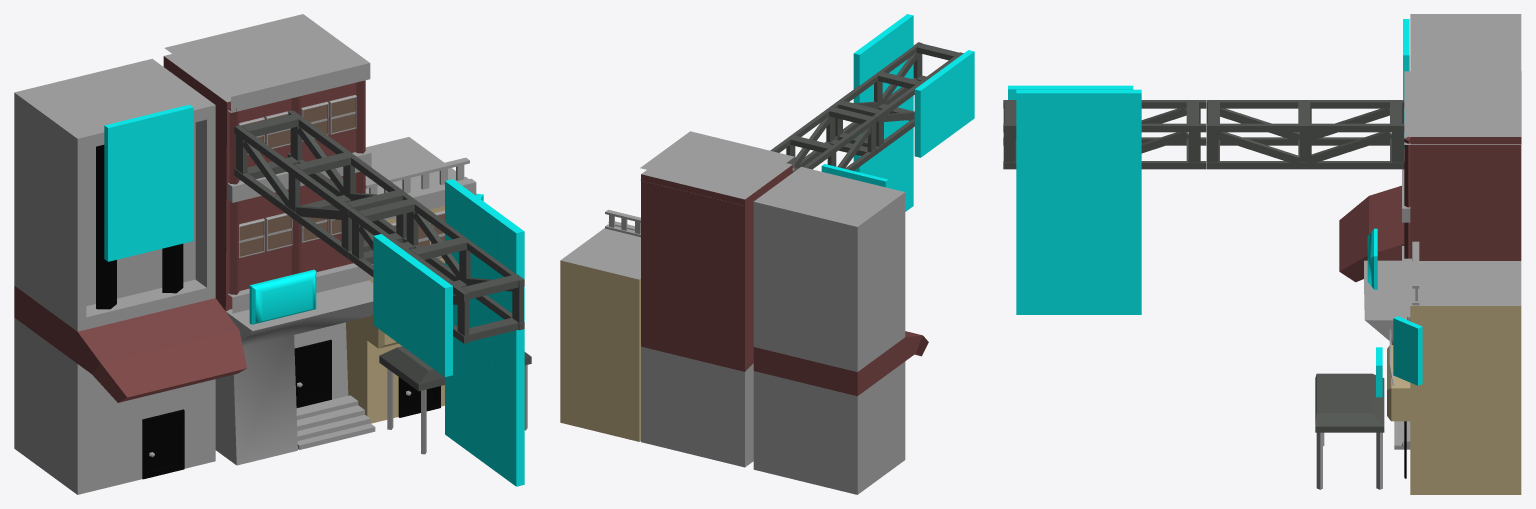
File: SciFiBuildings.fbx
3 views of the same model, side by side, from view 1: azimuth 30°, elevation 25°; view 2: azimuth 150°, elevation 25°; view 3: azimuth 270°, elevation 25° (orthographic). The views are drawn at different scales.
Parts seen in each view (by area): view 1: pCube185, pCube186, pCube270, pCube174, pCube198, pCube200, pCube172, pCube175, pCube187, pCube188, pSphere29, pSphere27 (+15 smaller); view 2: pCube185, pCube186, pCube175, pCube270, pCube174, pCube200, pCube172, pCube198, pCube184; view 3: pCube174, pCube175, pCube186, pCube270, pCube185, pCube200, pCube191, pCube190, pCylinder54, pCube172, pCube188.
Boxes of the visible parts, x1,y1,x2,y2 form: pCube185: [14, 58, 246, 494]; pCube186: [163, 54, 373, 465]; pCube270: [234, 110, 524, 343]; pCube174: [445, 179, 524, 486]; pCube198: [104, 104, 193, 261]; pCube200: [164, 14, 370, 112]; pCube172: [373, 234, 452, 376]; pCube175: [346, 137, 455, 423]; pCube187: [296, 395, 375, 449]; pCube188: [249, 269, 316, 324]; pSphere29: [142, 409, 184, 479]; pSphere27: [294, 339, 331, 407]; pCube185: [753, 166, 928, 494]; pCube186: [641, 163, 792, 467]; pCube175: [560, 228, 640, 441]; pCube270: [770, 42, 963, 172]; pCube174: [853, 14, 913, 211]; pCube200: [640, 131, 794, 193]; pCube172: [914, 50, 974, 157]; pCube198: [821, 164, 888, 187]; pCube184: [605, 209, 640, 237]; pCube174: [1016, 89, 1141, 314]; pCube175: [1387, 261, 1521, 494]; pCube186: [1364, 130, 1521, 340]; pCube270: [1003, 100, 1404, 169]; pCube185: [1339, 14, 1521, 282]; pCube200: [1404, 71, 1521, 144]; pCube191: [1315, 373, 1384, 432]; pCube190: [1393, 316, 1422, 385]; pCylinder54: [1404, 136, 1410, 258]; pCube172: [1008, 85, 1133, 99]; pCube188: [1367, 228, 1377, 289].
Size of the model in its own units: 126 by 110 by 157.
